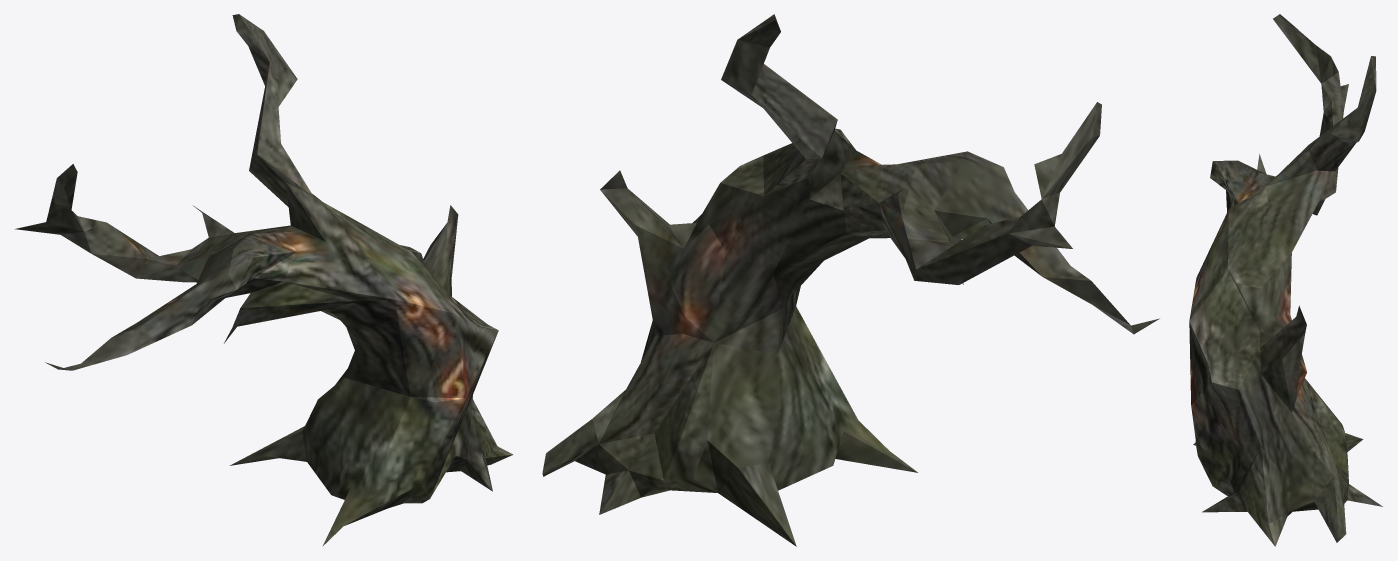
The model's file is world-cursedtree-snag.glb.
3 views of the same model, side by side, from view 1: azimuth 30°, elevation 25°; view 2: azimuth 150°, elevation 25°; view 3: azimuth 270°, elevation 25° (orthographic). The views are drawn at different scales.
Visible parts, largest first — view 1: output_unwrapped; view 2: output_unwrapped; view 3: output_unwrapped.
Part boxes in pixels (x1=…): output_unwrapped: x1=15, y1=14, x2=513, y2=546; output_unwrapped: x1=542, y1=14, x2=1159, y2=546; output_unwrapped: x1=1189, y1=14, x2=1382, y2=546.
Bounding box in the file's own units: 2.76 × 2.5 × 1.11.
1 material, 1 textured.
